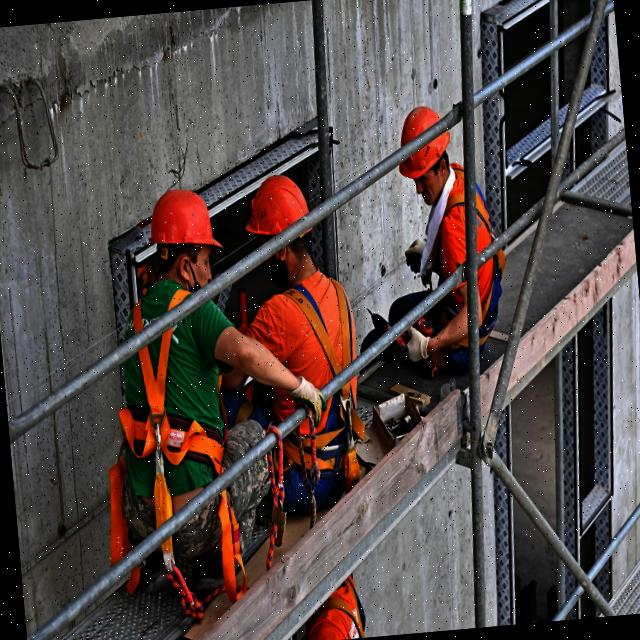Helmet: (147, 186, 224, 257), (241, 173, 309, 235), (396, 105, 452, 180)
Jacket: (262, 256, 364, 456), (424, 167, 498, 329)
NoJacket: (119, 268, 240, 523)
